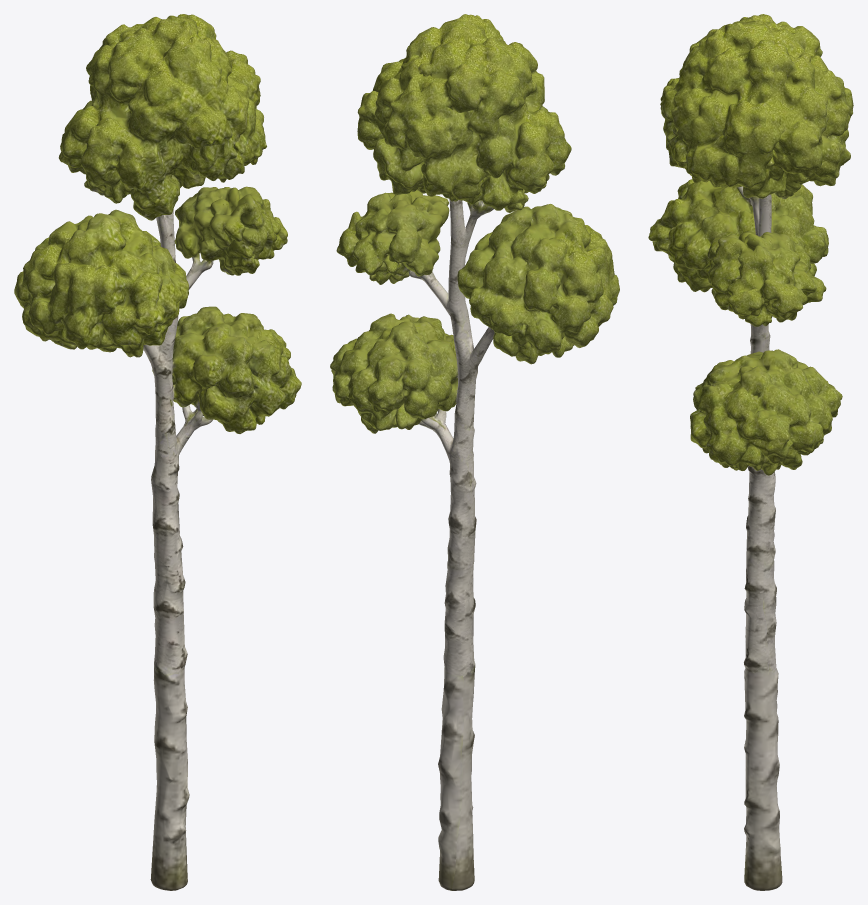
Rendered from abedul_joven.glb.
3 renders of one model, left to right at view 1: azimuth 30°, elevation 25°; view 2: azimuth 150°, elevation 25°; view 3: azimuth 270°, elevation 25°, orthographic.
Visible parts, largest first — view 1: aligerado; view 2: aligerado; view 3: aligerado.
Part boxes in pixels (<box>): aligerado: <box>14,14,301,890</box>; aligerado: <box>330,14,619,890</box>; aligerado: <box>648,14,853,890</box>.
Size of the model in its own units: 1.28 by 4 by 0.8603.
Materials: 1 (1 with a texture image).
